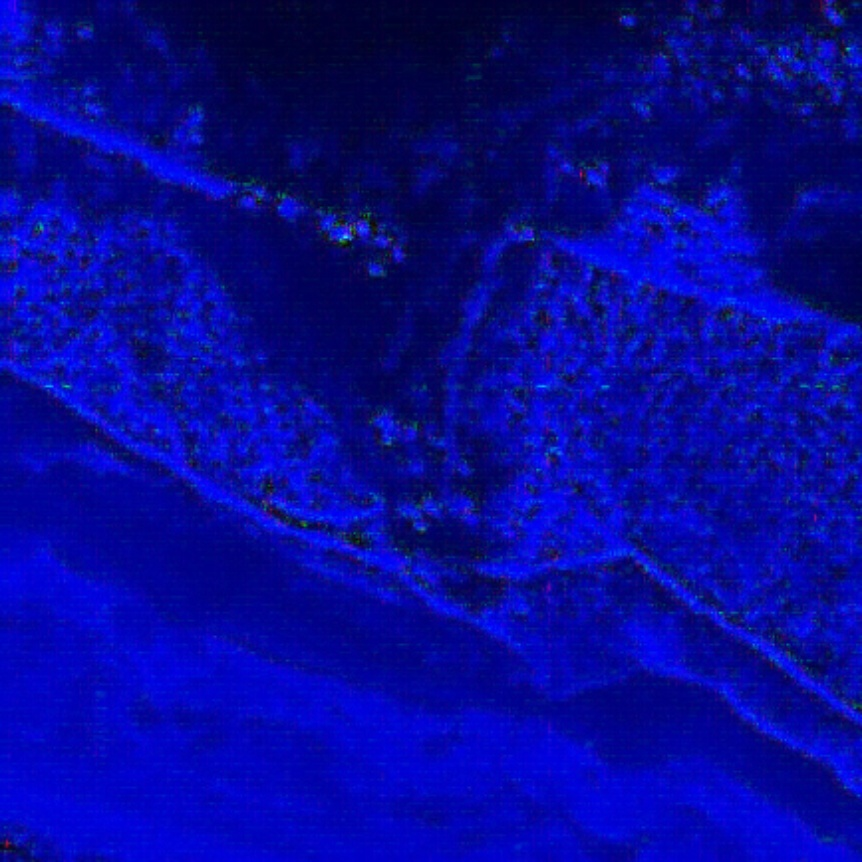rip_current: (237, 92, 621, 570)
